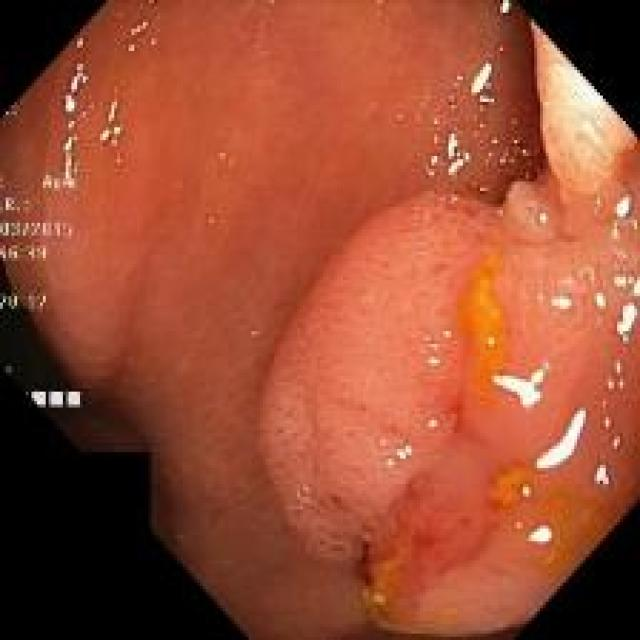Polyps: (260, 196, 504, 562)
